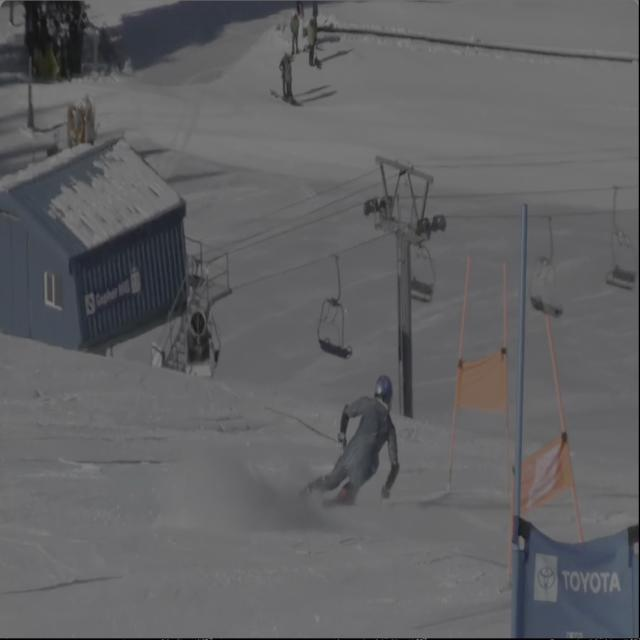gate: (505, 190, 528, 640), (444, 233, 480, 512), (498, 267, 518, 500)
